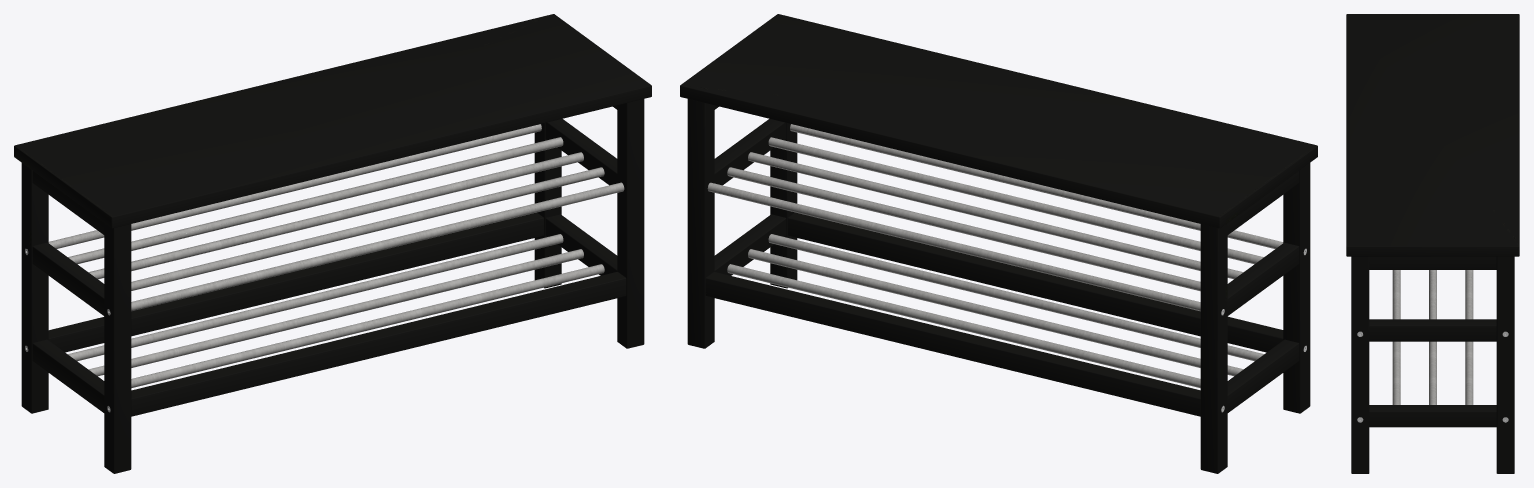
The model's file is tjusig_awka_z_pokami_na_buty_50152703.glb.
3 renders of one model, left to right at view 1: azimuth 30°, elevation 25°; view 2: azimuth 150°, elevation 25°; view 3: azimuth 270°, elevation 25°, orthographic. The views are drawn at different scales.
Visible parts, largest first — view 1: tjusig_awka_z_pokami_na_buty_50152703; view 2: tjusig_awka_z_pokami_na_buty_50152703; view 3: tjusig_awka_z_pokami_na_buty_50152703.
Boxes of the visible parts, bbox=[...] form: tjusig_awka_z_pokami_na_buty_50152703: bbox=[14, 14, 651, 473]; tjusig_awka_z_pokami_na_buty_50152703: bbox=[680, 14, 1317, 473]; tjusig_awka_z_pokami_na_buty_50152703: bbox=[1346, 14, 1519, 473].
Size of the model in its own units: 1.08 by 0.497 by 0.34.
Materials: 1 (1 with a texture image).
